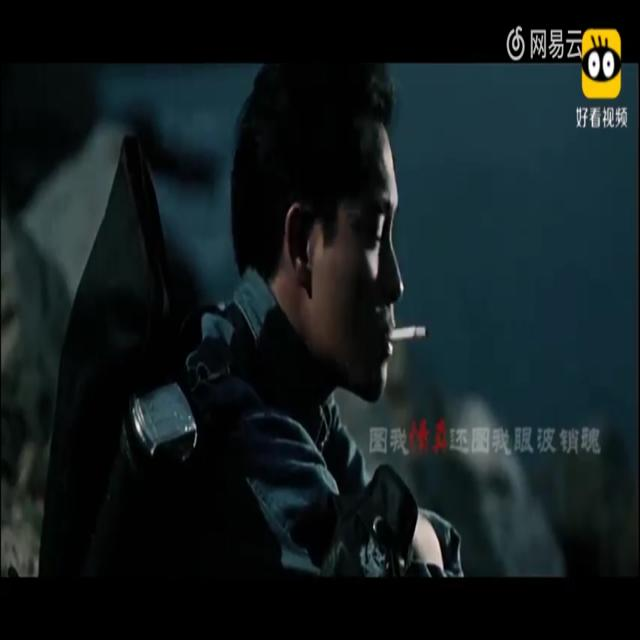smoke: (392, 314, 431, 355)
